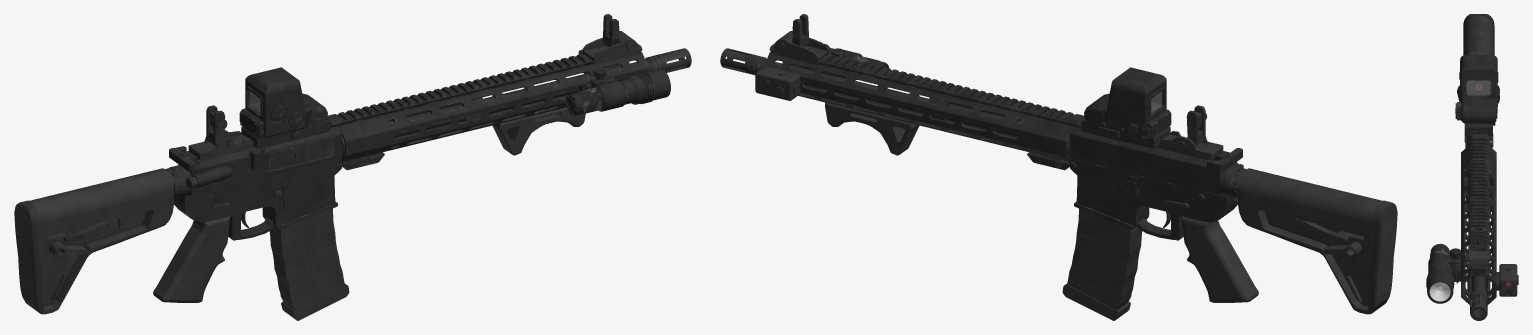
Rendered from weapon_ar15.glb.
3 renders of one model, left to right at view 1: azimuth 30°, elevation 25°; view 2: azimuth 150°, elevation 25°; view 3: azimuth 270°, elevation 25°, orthographic. The views are drawn at different scales.
Parts seen in each view (by area): view 1: ar15_handguard, ar15_stock, ar15_lower_receiver, ar15_magazine, ar15_att_holo_body, ar15_pistol_grip, ar15_upper_receiver, ar15_buttpad, ar15_att_grip, ar15_att_light_body, ar15_dust_cover, ar15_barrel (+8 smaller); view 2: ar15_handguard, ar15_stock, ar15_lower_receiver, ar15_magazine, ar15_att_holo_body, ar15_upper_receiver, ar15_pistol_grip, ar15_buttpad, ar15_att_grip, ar15_barrel, ar15_att_laser_body, ar15_front_sight_base (+6 smaller); view 3: ar15_handguard, ar15_att_holo_body, ar15_stock, ar15_att_light_body, ar15_att_laser_body, ar15_flash_hider, ar15_front_sight_base, ar15_att_holo_glass, ar15_att_light_mount, ar15_att_light_reflector, ar15_att_light_glass, ar15_front_sight_leaf (+6 smaller).
Boxes of the visible parts, x1,y1,x2,y2 form: ar15_handguard: (332,43,648,170); ar15_stock: (30,168,173,314); ar15_lower_receiver: (174,159,342,240); ar15_magazine: (269,208,349,320); ar15_att_holo_body: (239,67,330,148); ar15_pistol_grip: (153,216,230,302); ar15_upper_receiver: (178,114,342,195); ar15_buttpad: (14,200,43,314); ar15_att_grip: (492,107,585,155); ar15_att_light_body: (576,68,670,113); ar15_dust_cover: (265,137,334,173); ar15_barrel: (390,59,651,137); ar15_handguard: (764,43,1079,170); ar15_stock: (1238,168,1381,314); ar15_lower_receiver: (1069,159,1237,240); ar15_magazine: (1062,208,1142,320); ar15_att_holo_body: (1081,67,1171,148); ar15_upper_receiver: (1069,114,1237,195); ar15_pistol_grip: (1181,216,1258,302); ar15_buttpad: (1368,200,1397,314); ar15_att_grip: (825,102,919,155); ar15_barrel: (760,59,1021,137); ar15_att_laser_body: (755,66,800,100); ar15_front_sight_base: (774,31,829,64); ar15_handguard: (1461,137,1496,304); ar15_att_holo_body: (1455,55,1498,135); ar15_stock: (1463,15,1493,55); ar15_att_light_body: (1426,263,1454,303); ar15_att_laser_body: (1496,264,1518,296); ar15_flash_hider: (1470,289,1487,320); ar15_front_sight_base: (1465,243,1490,270); ar15_att_holo_glass: (1466,81,1490,95); ar15_att_light_mount: (1428,253,1458,281); ar15_att_light_reflector: (1429,282,1450,301); ar15_att_light_glass: (1430,282,1450,301); ar15_front_sight_leaf: (1471,227,1486,250).
Size of the model in its own units: 0.8382 by 0.2943 by 0.1133.
Materials: 8 (2 with a texture image).
